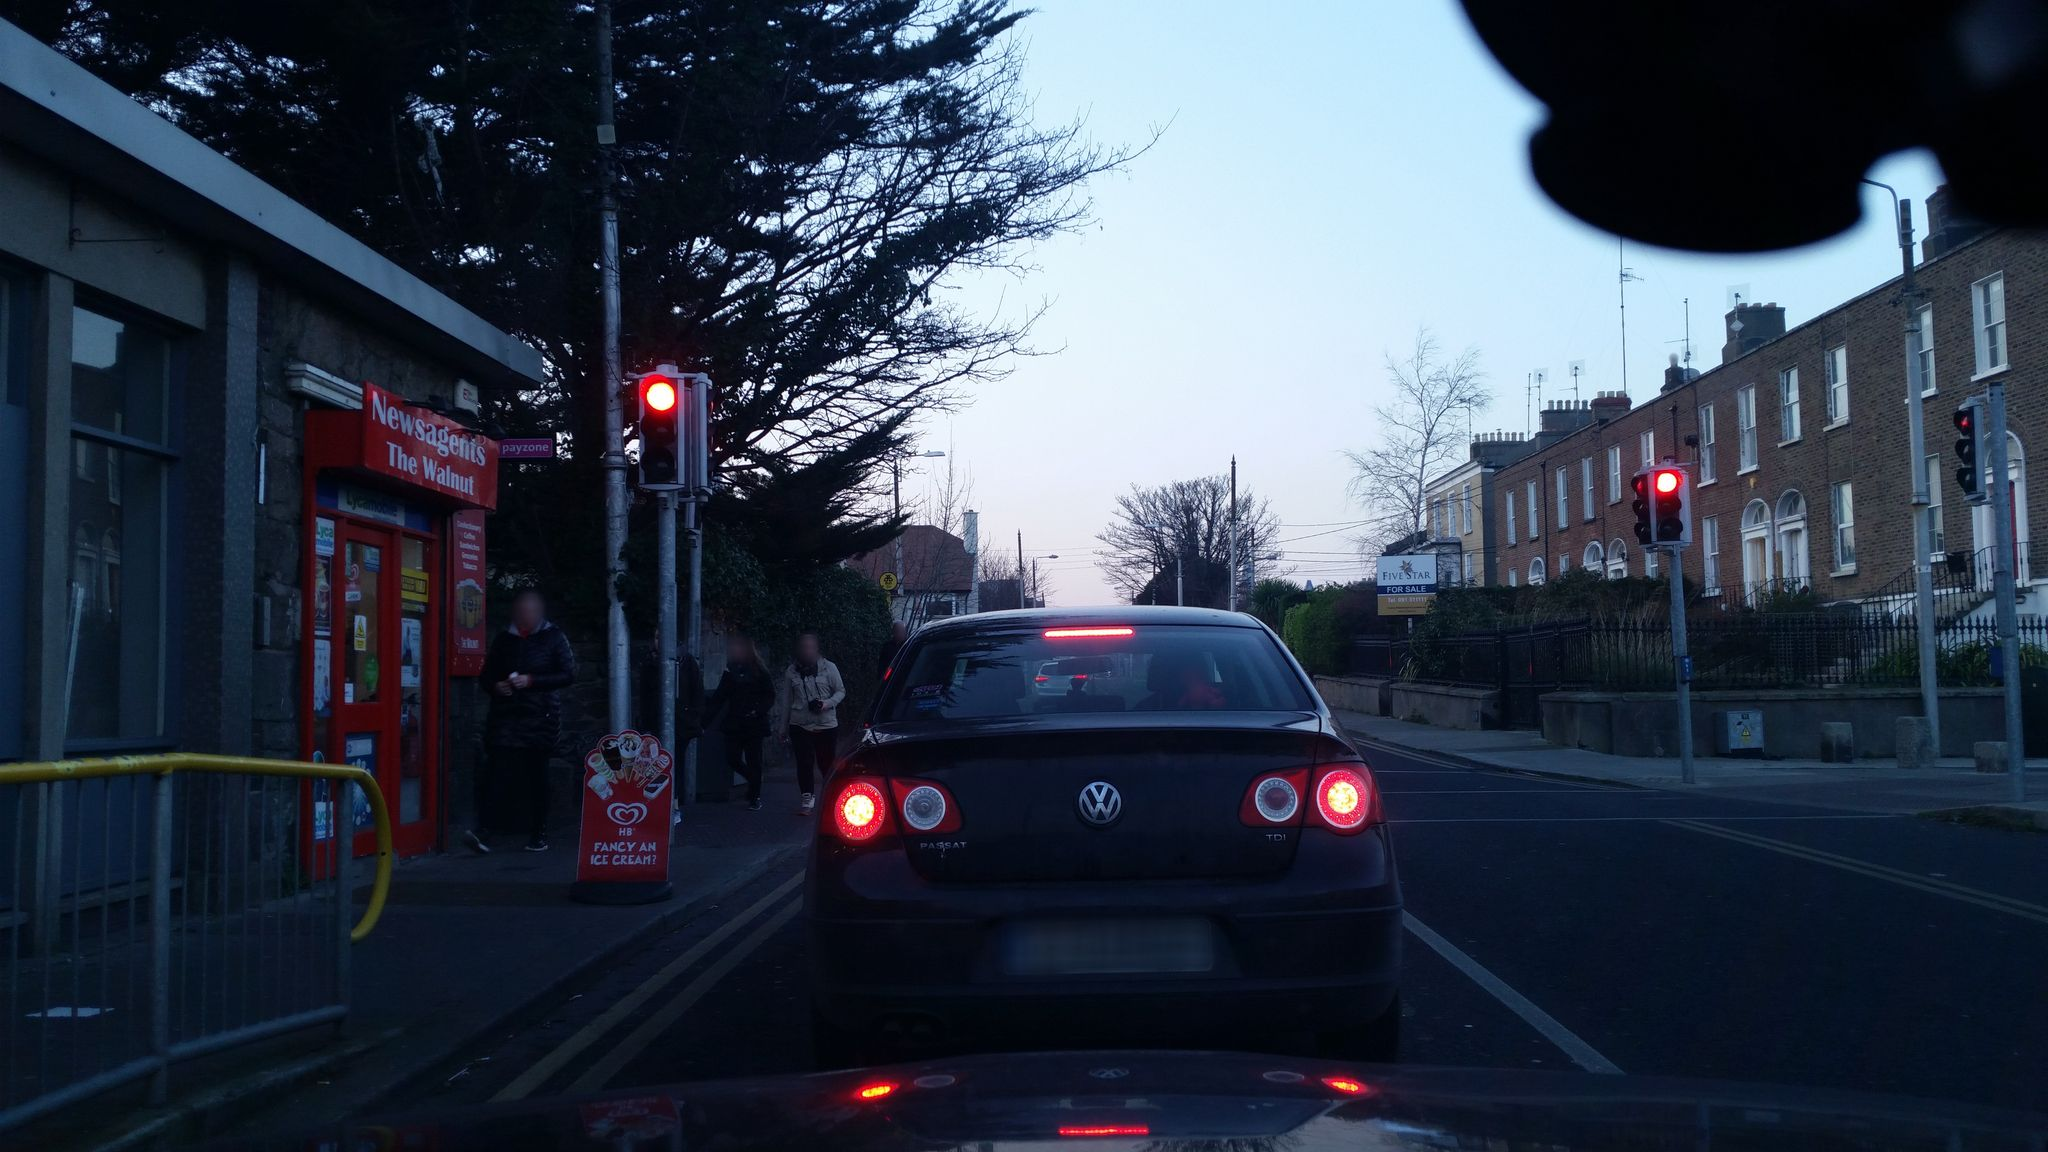property sign: (1364, 540, 1454, 633)
